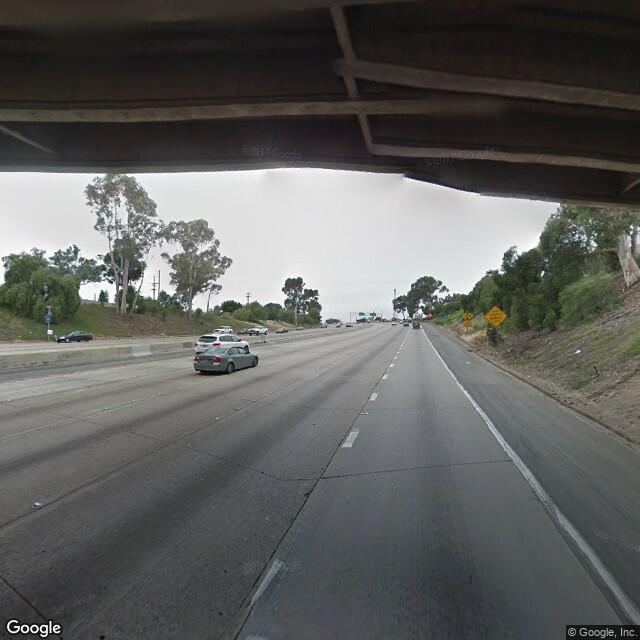litter: (571, 347, 579, 354)
